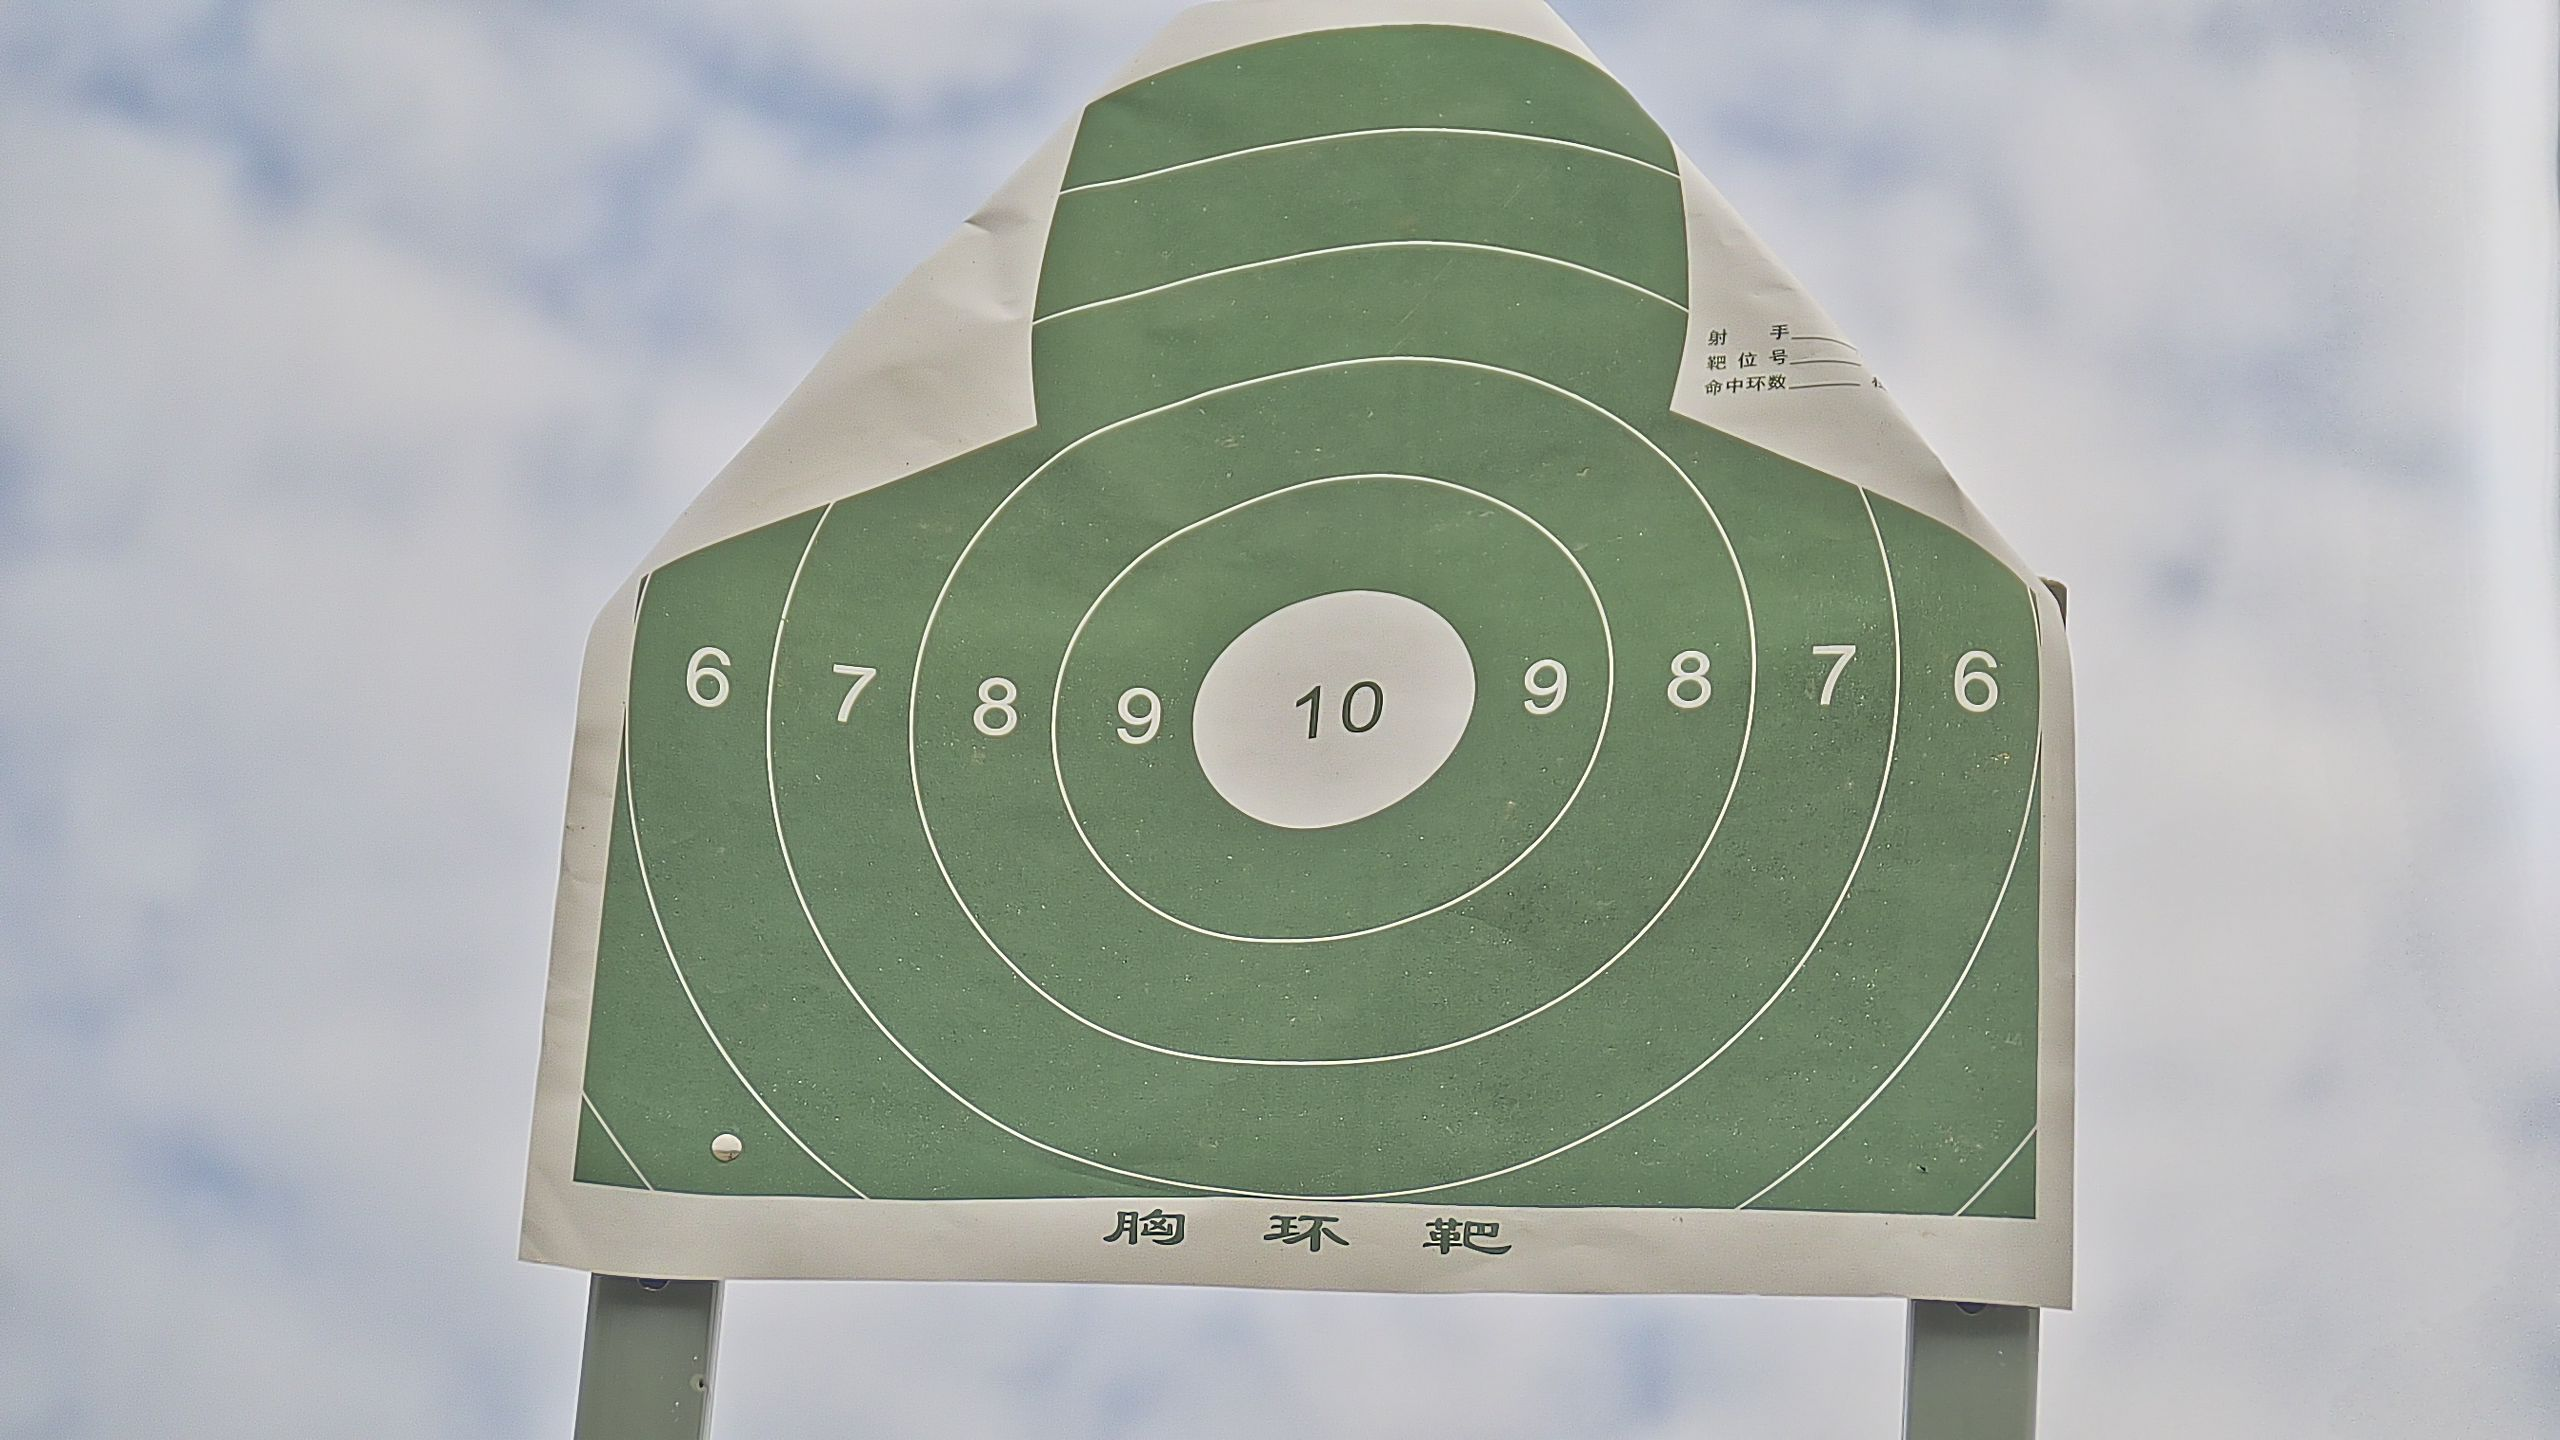kernel: (1326, 705, 1335, 710)
target: (571, 16, 2041, 1224)
ten: (1189, 585, 1480, 826)
